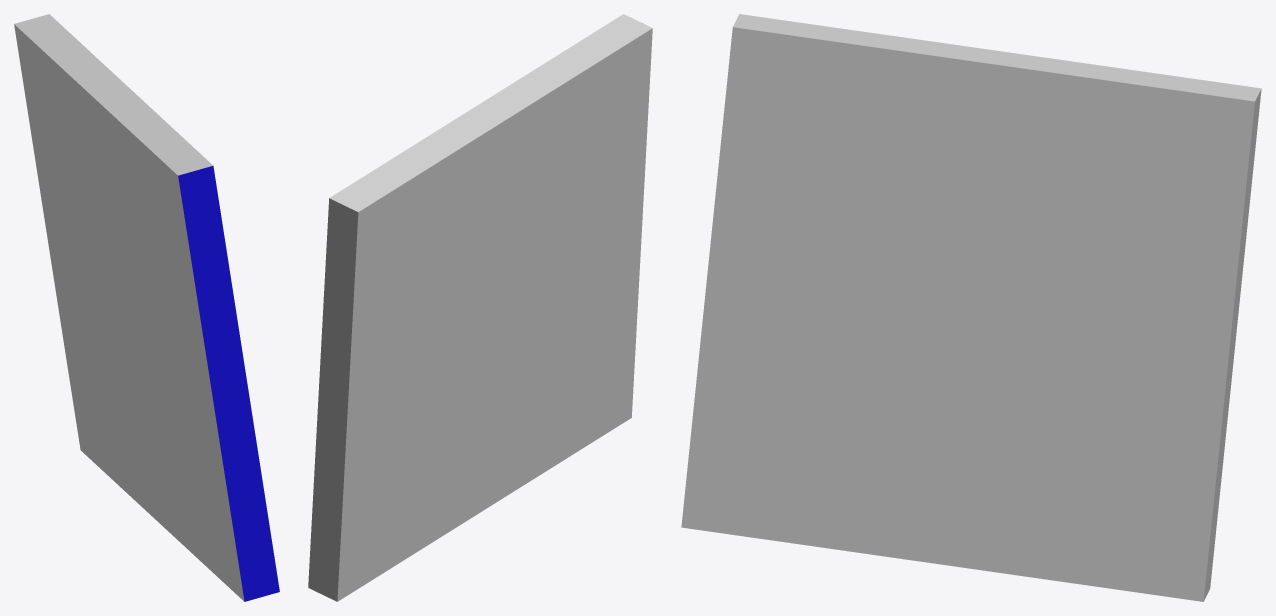
3 views of the same model, side by side, from view 1: azimuth 30°, elevation 25°; view 2: azimuth 150°, elevation 25°; view 3: azimuth 270°, elevation 25° (orthographic). The views are drawn at different scales.
Parts seen in each view (by area): view 1: Cube; view 2: Cube; view 3: Cube.
Boxes of the visible parts, x1=… form: Cube: x1=14, y1=14, x2=279, y2=601; Cube: x1=308, y1=14, x2=652, y2=601; Cube: x1=681, y1=14, x2=1261, y2=601.
Bounding box in the file's own units: 0.7032 × 2.16 × 2.19.
